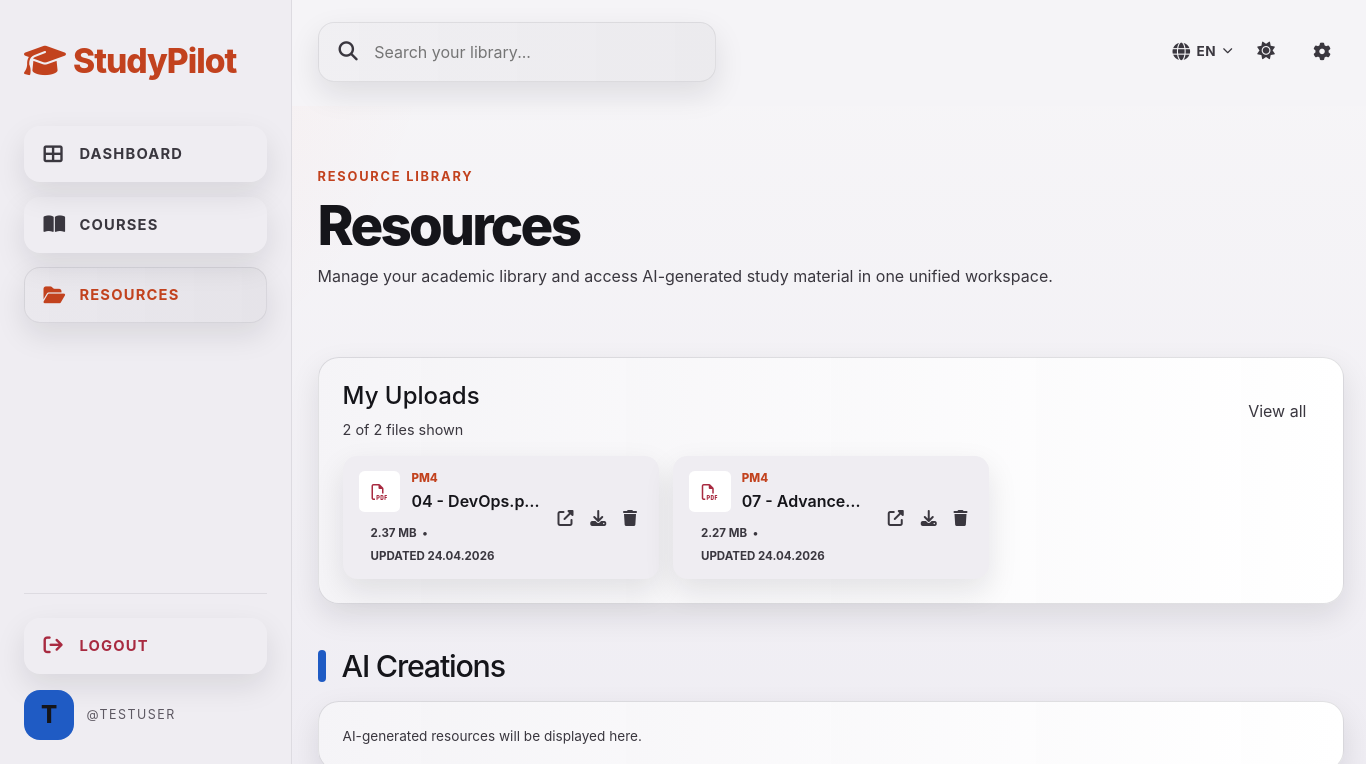
Test case: ResourcesPage › switches back to recent uploads when Show recent is clicked
Expected: the text "07 - Advanced Scrum.pdf" is shown, [742,489,870,513]
Click the button "View all".
click(1277, 411)  # box [1235,392,1319,430]
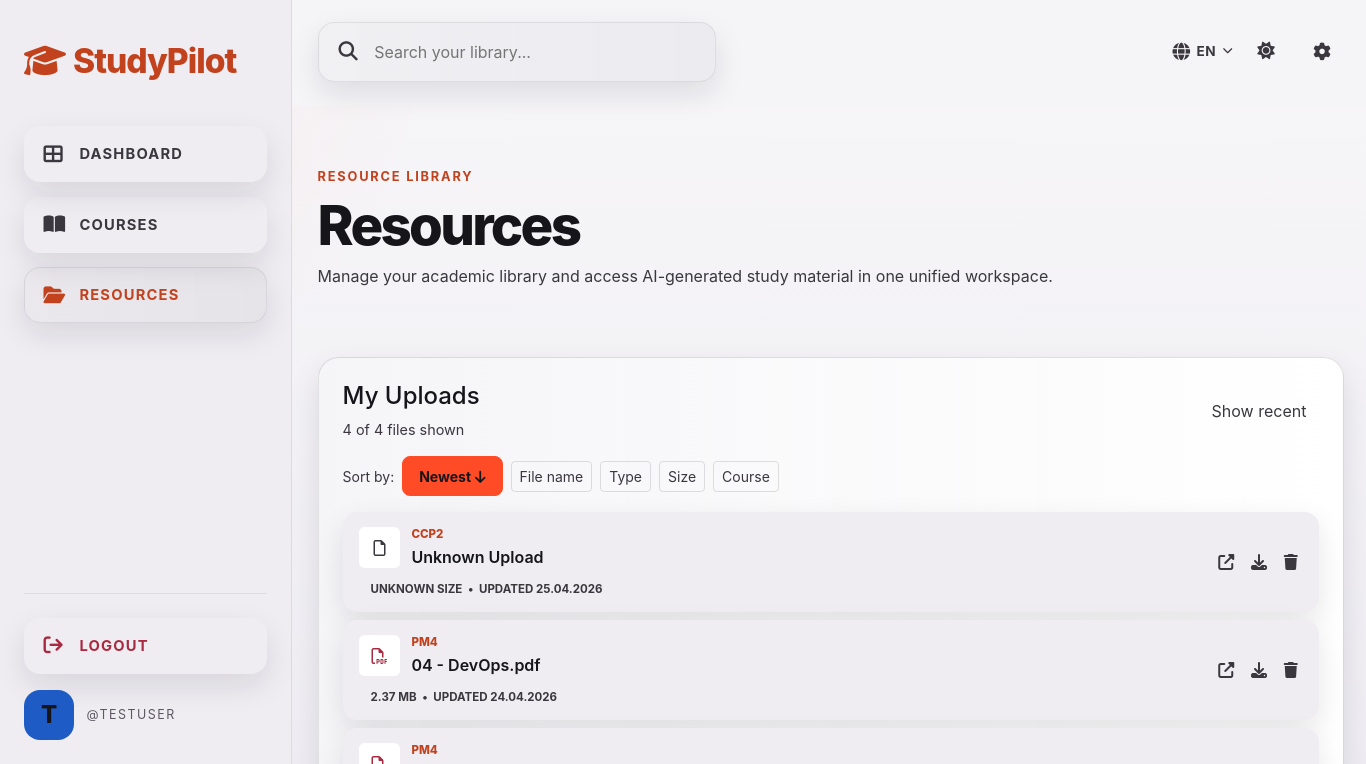
Click the button "Show recent".
click(1259, 411)  # box [1198,392,1319,430]
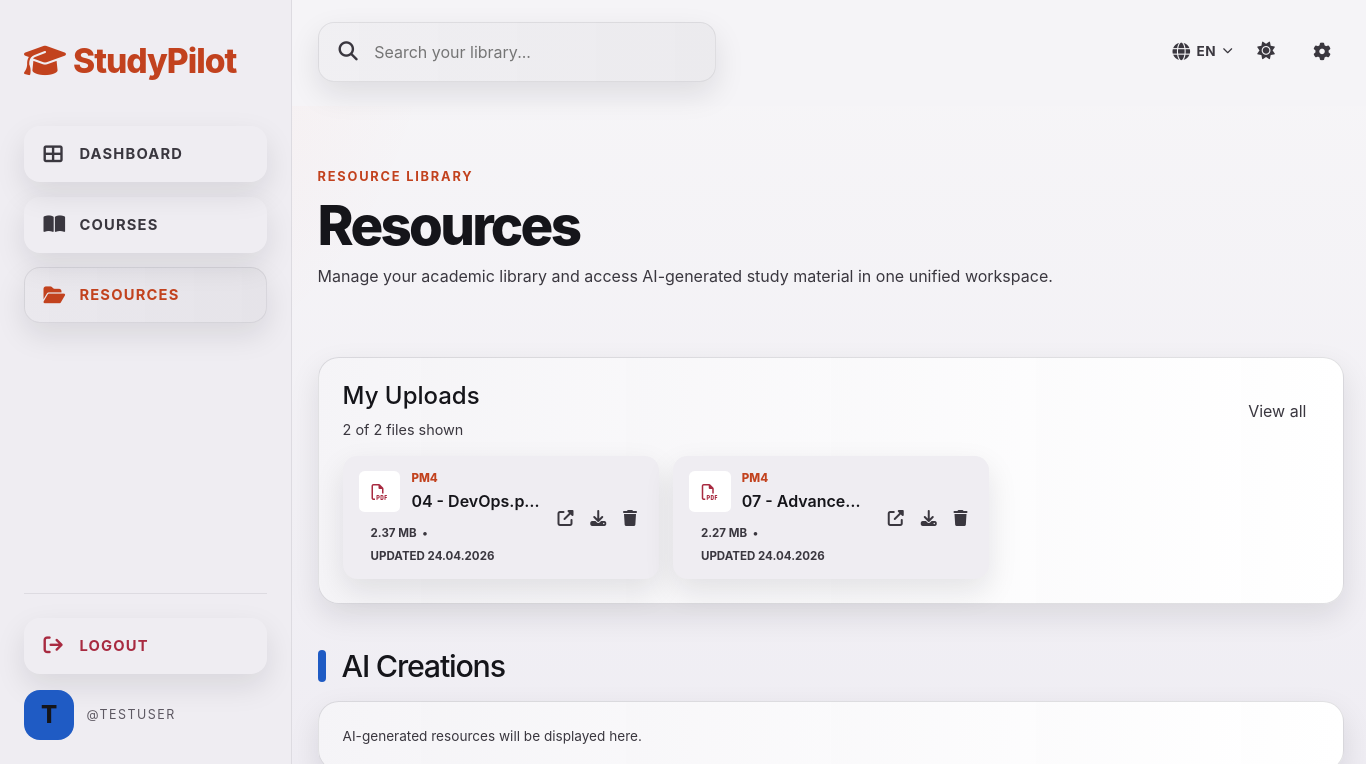
Expected: the button "View all" is shown, [1235,392,1319,430]
